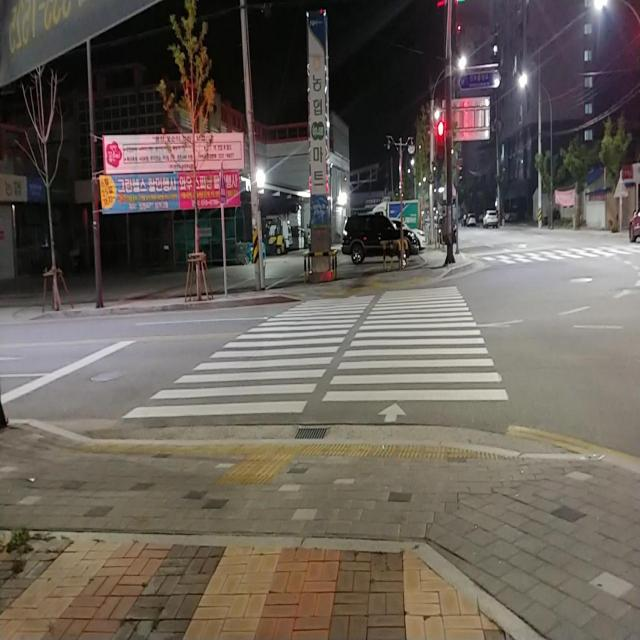빨간불: (433, 115, 448, 153)
횡단보도: (121, 282, 509, 428), (465, 237, 640, 273)
